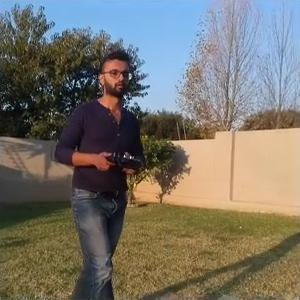follow: (44, 29, 148, 299)
